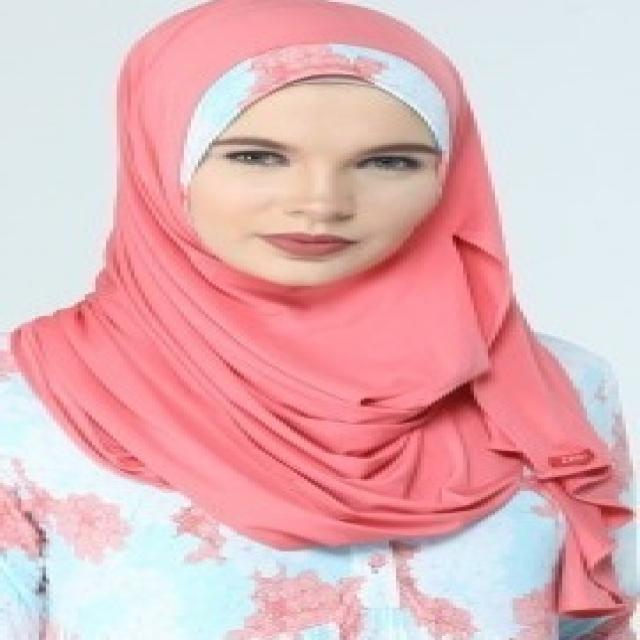head: (101, 1, 508, 298)
